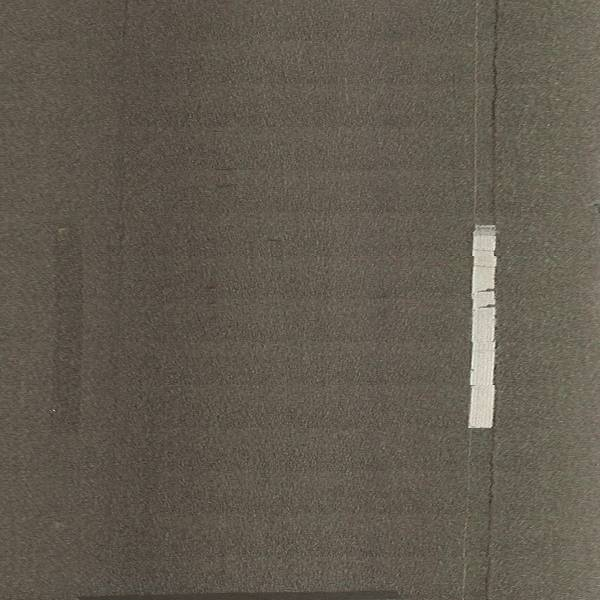road_damage: (481, 434, 495, 600)
